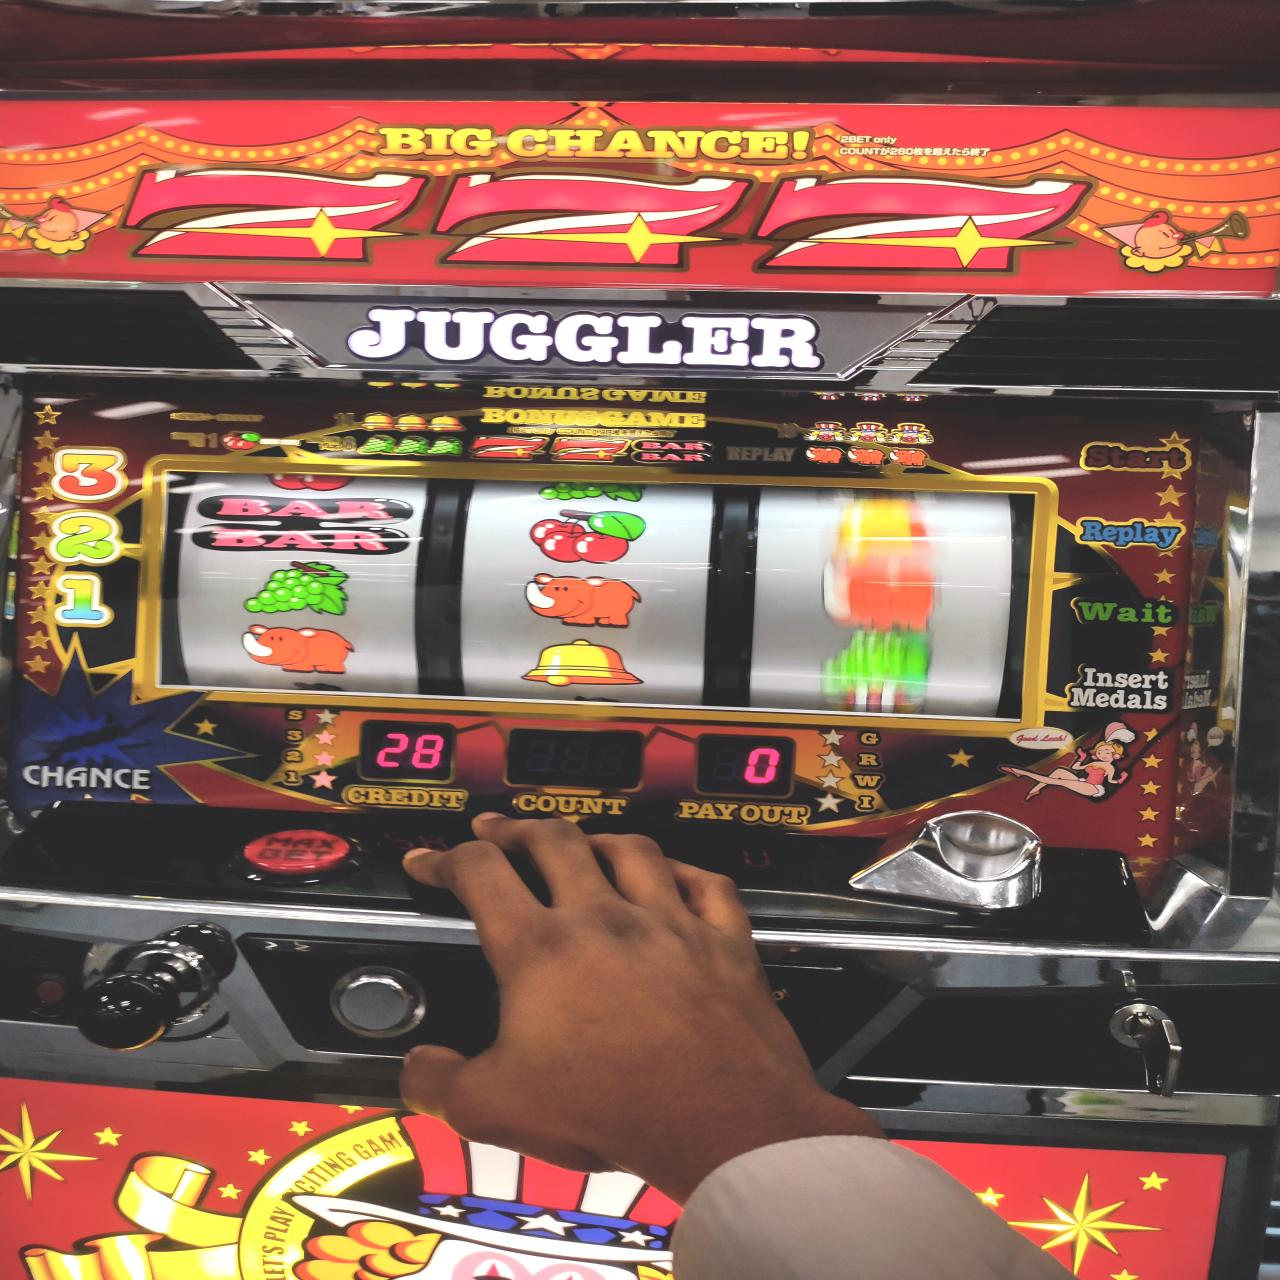8: (523, 570, 644, 629), (237, 621, 353, 674), (243, 559, 244, 563)
bar: (189, 492, 414, 554)
bell: (525, 636, 642, 686)
cherry: (527, 508, 647, 563)
grape: (245, 560, 352, 615)
rhino: (154, 462, 1040, 726)
